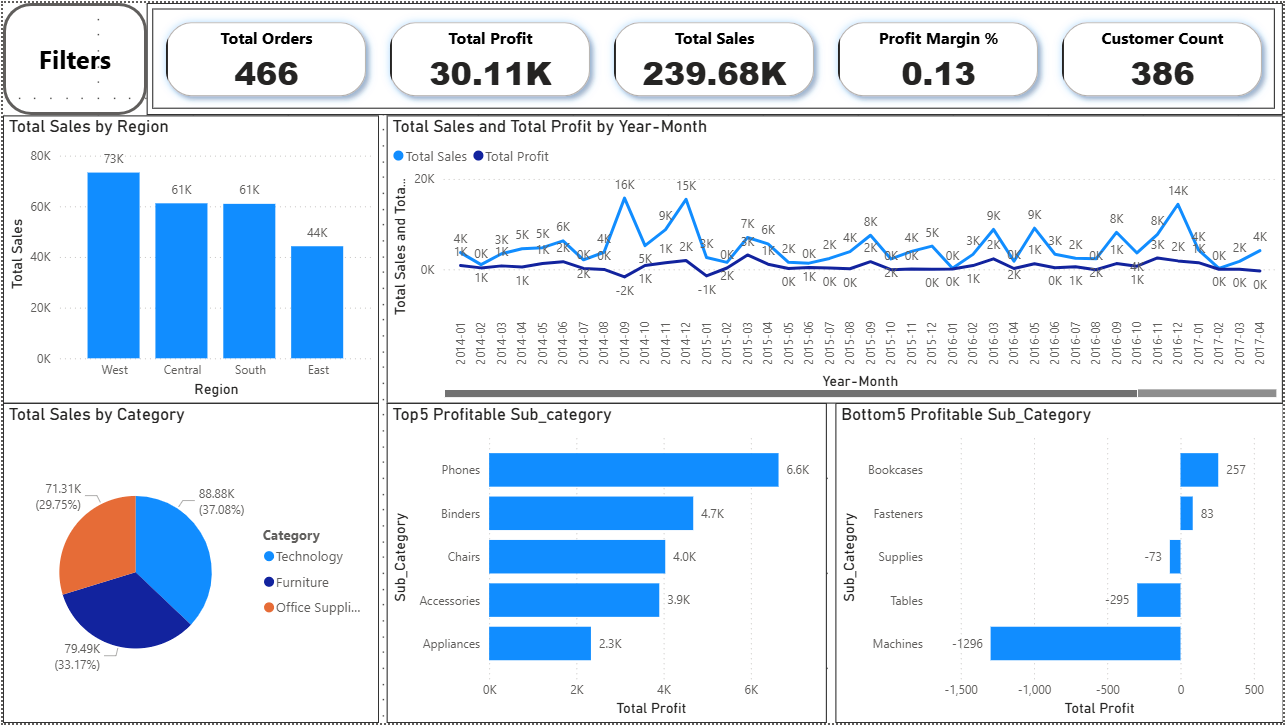

Layout of this report page (visuals, bound fields, positions):
{"tool":"powerbi","page":{"name":"Overview","canvas":[1280,720],"ordinal":0},"visuals":[{"type":"clusteredColumnChart","fields":{"Y":["OrderDetails.Total Sales"],"Category":["Orders.Region"]},"box":[0,112,376,288],"z":0},{"type":"lineChart","fields":{"Category":["Date.Year-Month"],"Y":["OrderDetails.Total Sales","OrderDetails.Total Profit"]},"box":[384,112,896,288],"z":1000},{"type":"pieChart","fields":{"Y":["OrderDetails.Total Sales"],"Category":["Products.Category"]},"box":[0,400,376,320],"z":2000},{"type":"barChart","title":"Top5 Profitable Sub_category","fields":{"Y":["OrderDetails.Total Profit"],"Category":["Products.Sub_Category"]},"box":[384,400,440,320],"z":3000},{"type":"barChart","title":"Bottom5 Profitable Sub_Category","fields":{"Y":["OrderDetails.Total Profit"],"Category":["Products.Sub_Category"]},"box":[832,400,448,320],"z":4000},{"type":"cardVisual","fields":{"Data":["OrderDetails.Total Orders","OrderDetails.Total Profit","OrderDetails.Total Sales","OrderDetails.Profit Margin %","Customers.Customer Count"]},"box":[144,0,1136,112],"z":5000},{"type":"actionButton","title":"Filters Button","box":[0,0,144,112],"z":7000}]}

Visuals, with their boxes in screenshot pixels (x1, y1, x2, y2), scaled from the page's 1280x720 canvas onto the 1286x727 screenshot:
clusteredColumnChart - OrderDetails.Total Sales x Orders.Region: bbox=(0, 113, 378, 404)
lineChart - Date.Year-Month x OrderDetails.Total Sales: bbox=(386, 113, 1285, 404)
pieChart - OrderDetails.Total Sales x Products.Category: bbox=(0, 404, 378, 726)
"Top5 Profitable Sub_category" barChart: bbox=(386, 404, 828, 726)
"Bottom5 Profitable Sub_Category" barChart: bbox=(836, 404, 1285, 726)
cardVisual - OrderDetails.Total Orders x OrderDetails.Total Profit: bbox=(145, 0, 1285, 113)
"Filters Button" actionButton: bbox=(0, 0, 145, 113)
